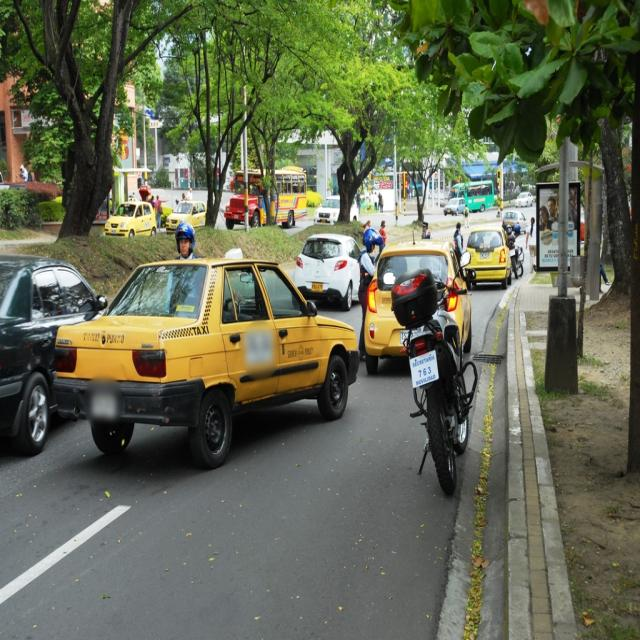car: (44, 246, 358, 451), (440, 195, 466, 214)
